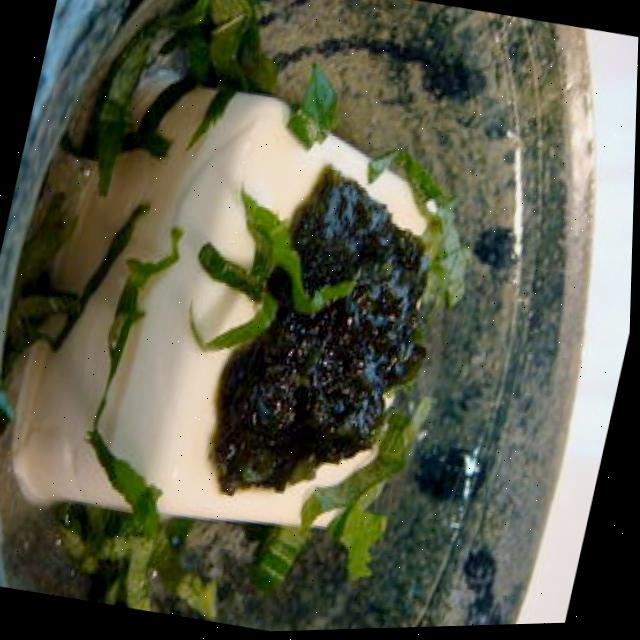豆腐料理: (0, 51, 483, 601)
